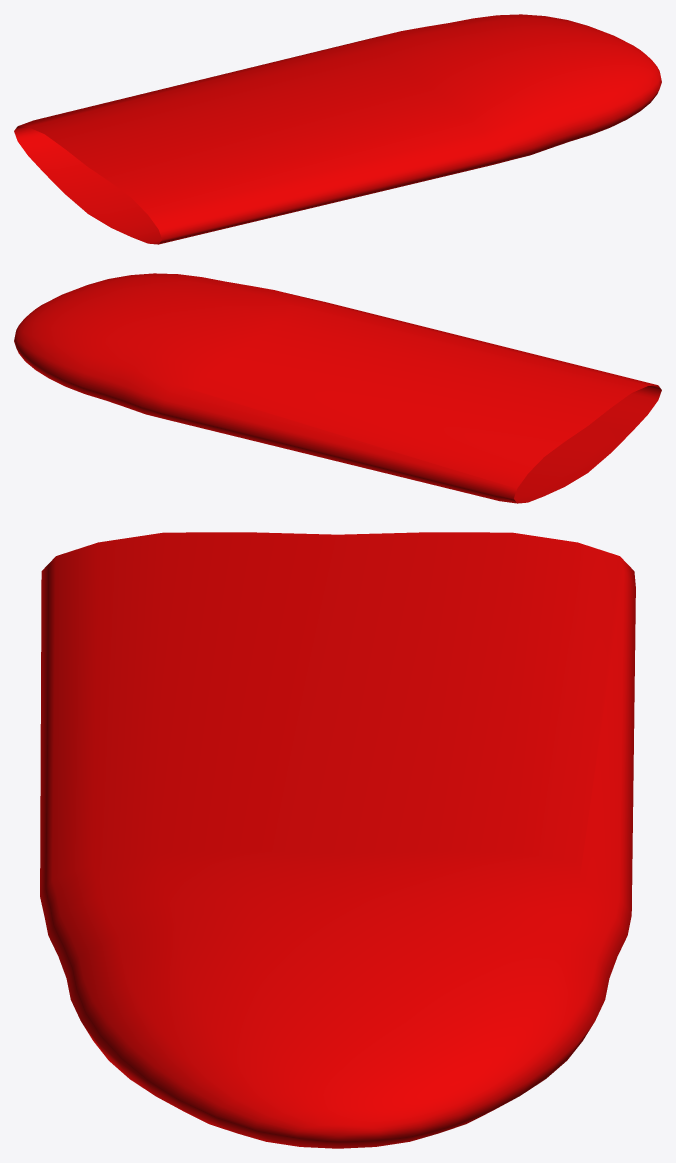
The model's file is sewerBlood_bs.fbx.
3 views of the same model, one above another, from view 1: azimuth 30°, elevation 25°; view 2: azimuth 150°, elevation 25°; view 3: azimuth 270°, elevation 25° (orthographic). The views are drawn at different scales.
Parts seen in each view (by area): view 1: sewer_bloodFlow_ori; view 2: sewer_bloodFlow_ori; view 3: sewer_bloodFlow_ori.
Part boxes in pixels (x1,y1,x2,y2): sewer_bloodFlow_ori: (14,14,661,244); sewer_bloodFlow_ori: (14,273,661,503); sewer_bloodFlow_ori: (40,532,635,1148).
Size of the model in its own units: 373 by 42.2 by 172.
